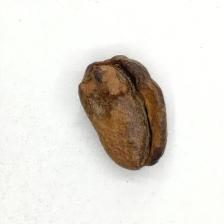NG: (78, 60, 155, 167)
